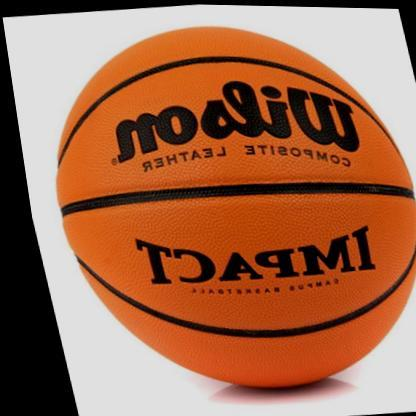basketball: (14, 6, 416, 407)
